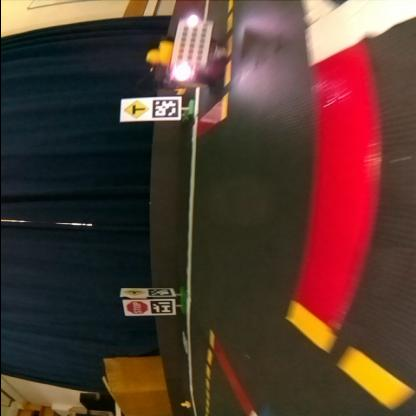Duckie: (144, 42, 170, 68), (179, 402, 189, 409)
Duckiebot: (158, 17, 218, 88)
Intersection sign: (123, 101, 147, 119), (122, 290, 140, 296)
QR code: (150, 100, 177, 118), (152, 301, 170, 315), (146, 290, 170, 297)
Stop sign: (124, 302, 146, 316)
